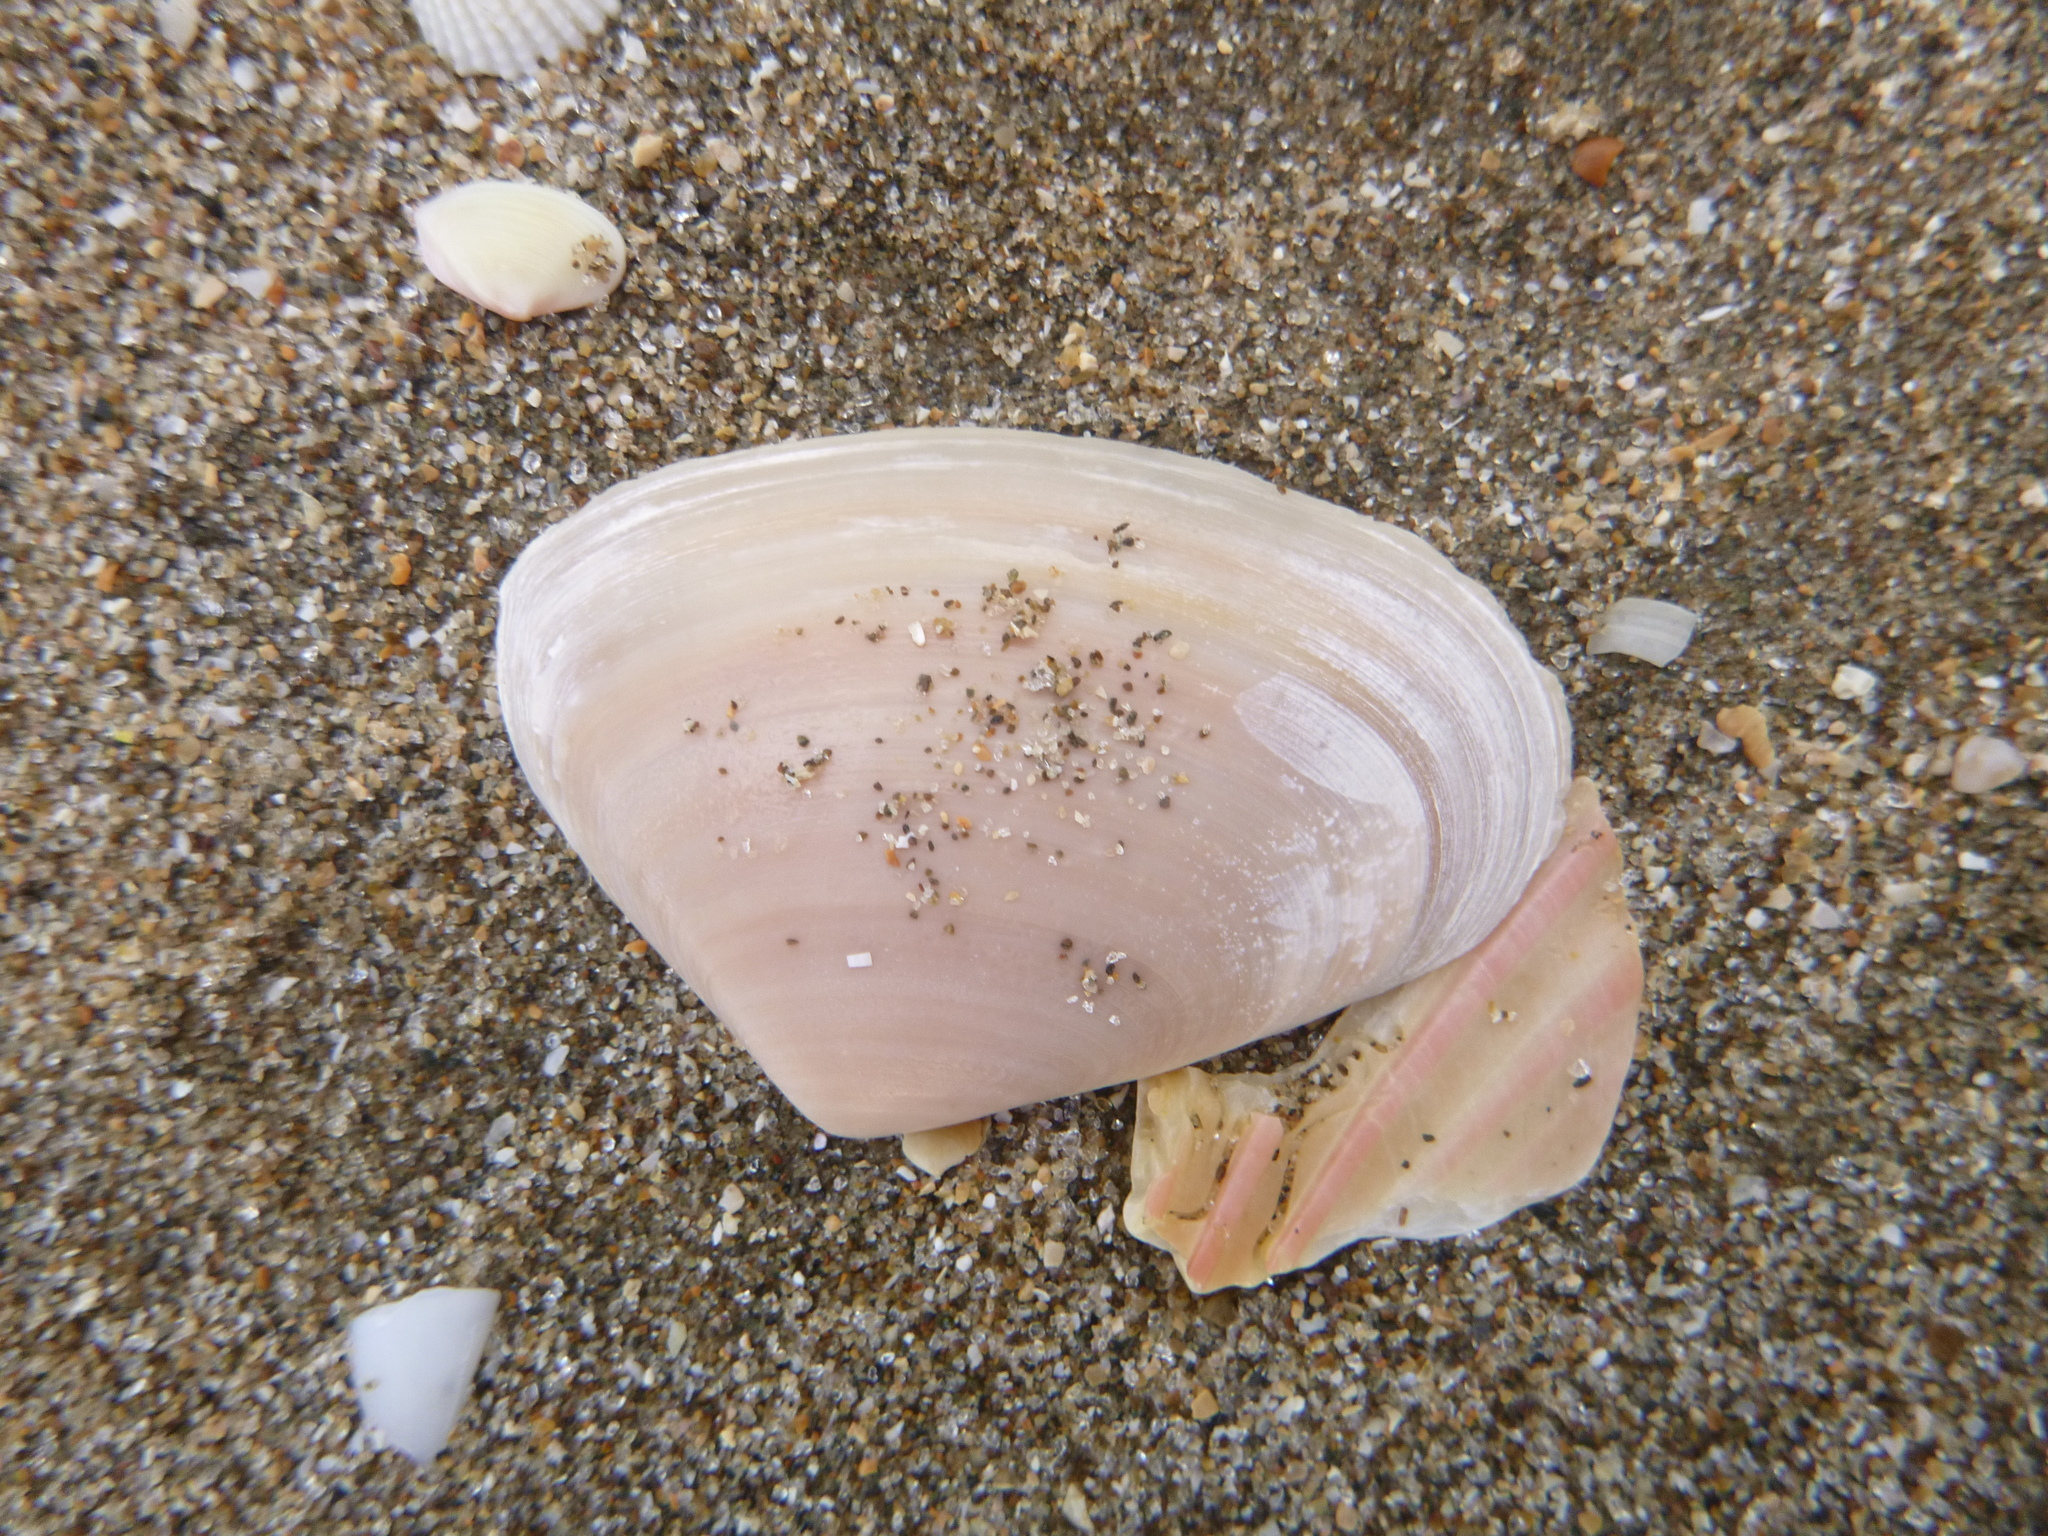tuatua: (485, 423, 1580, 1139)
